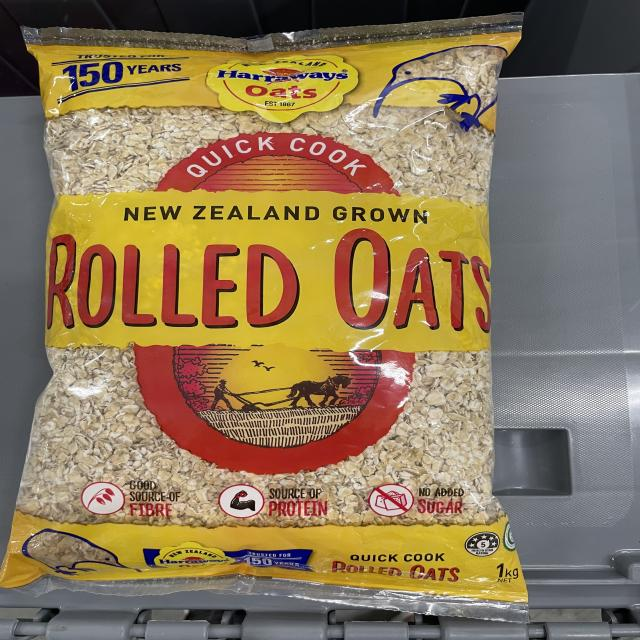object_name: (38, 32, 489, 607)
